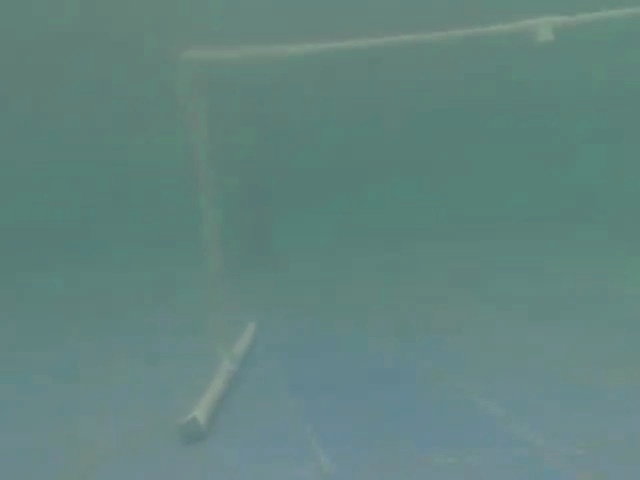gate: (133, 5, 640, 469)
